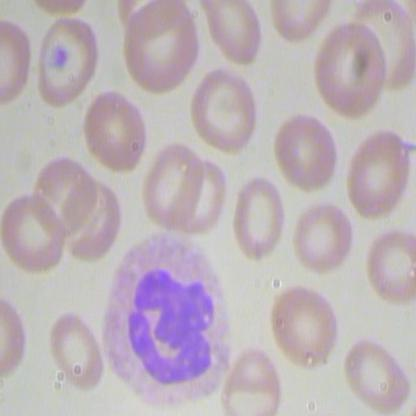RBC: (120, 1, 200, 96), (311, 18, 386, 117), (187, 64, 261, 163), (31, 10, 103, 107), (135, 144, 209, 234), (341, 323, 410, 415), (344, 127, 412, 220), (265, 284, 338, 366), (77, 90, 148, 172), (28, 155, 99, 237), (1, 189, 71, 271), (273, 109, 339, 193), (289, 198, 354, 278), (220, 335, 283, 415), (44, 311, 106, 392), (229, 175, 286, 262), (359, 218, 415, 305), (198, 1, 265, 68)
WBC: (99, 228, 240, 411)
